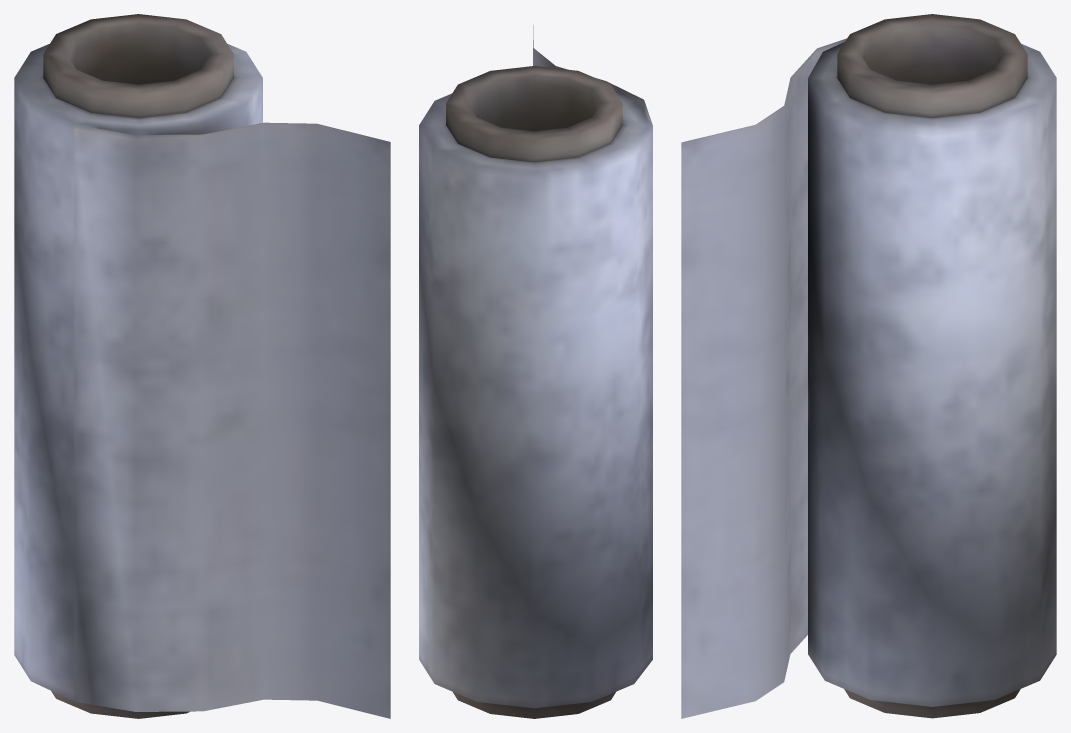
Rendered from Silk.glb.
The picture shows the model from 3 angles, left to right: view 1: azimuth 30°, elevation 25°; view 2: azimuth 150°, elevation 25°; view 3: azimuth 270°, elevation 25°; orthographic projection. The views are drawn at different scales.
Visible parts, largest first — view 1: low; view 2: low; view 3: low.
Boxes of the visible parts, <box> form: low: <box>14,14,390,718</box>; low: <box>419,25,652,718</box>; low: <box>681,14,1056,718</box>.
Size of the model in its own units: 0.7935 by 2.02 by 1.1.
Materials: 1 (1 with a texture image).
